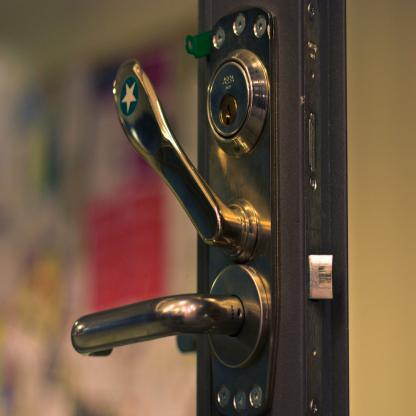door: (0, 0, 347, 415)
lever: (109, 47, 224, 249), (62, 268, 240, 364)
